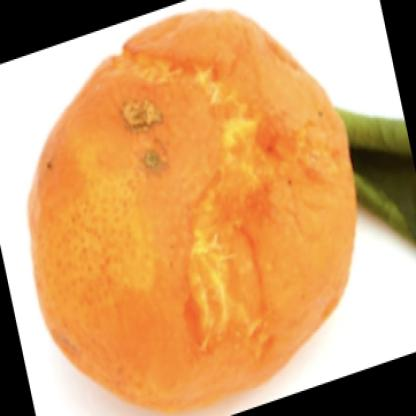rotten: (32, 16, 357, 407)
